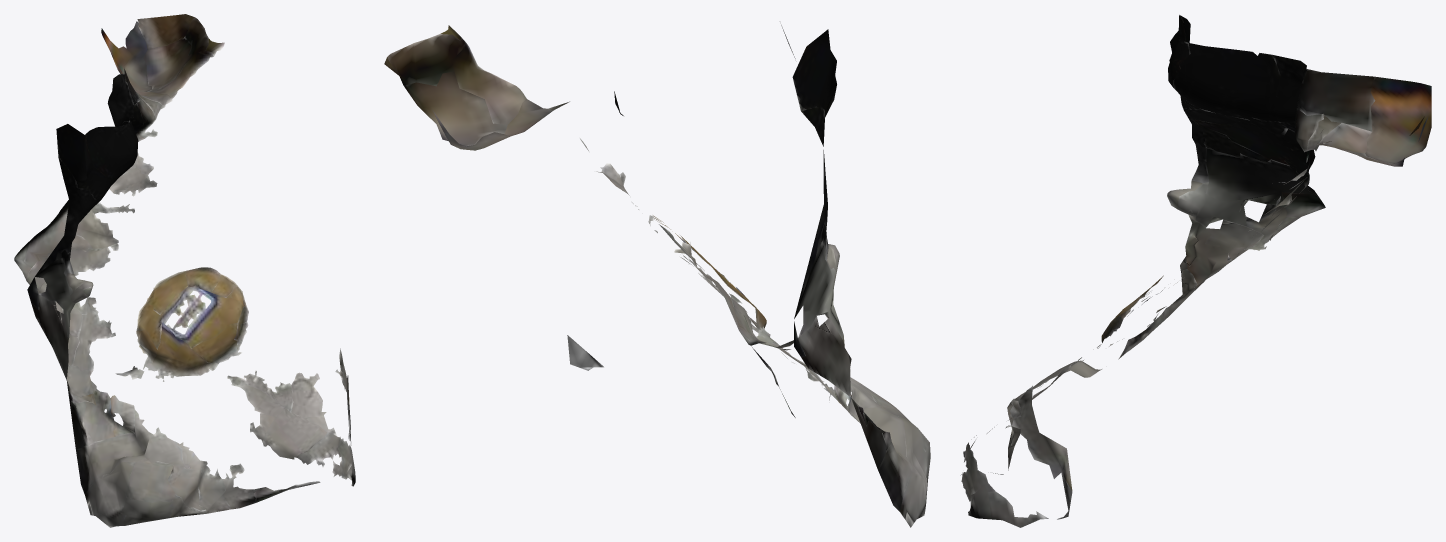
File: hall.glb
The picture shows the model from 3 angles, left to right: view 1: azimuth 30°, elevation 25°; view 2: azimuth 150°, elevation 25°; view 3: azimuth 270°, elevation 25°; orthographic projection. The views are drawn at different scales.
Bounding box in the file's own units: 0.5173 × 0.7168 × 0.7231.
1 material, 1 textured.
